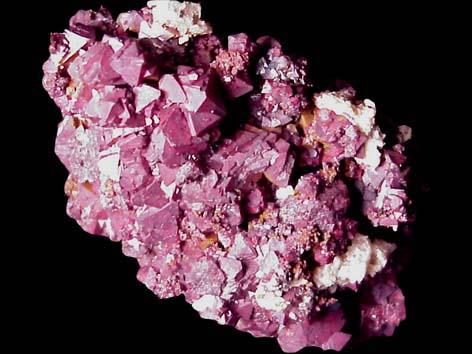cuprite: (43, 10, 358, 352), (191, 33, 310, 128), (304, 107, 367, 162), (361, 267, 407, 338)
